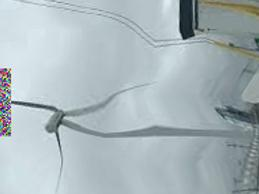faulty: (40, 97, 129, 143)
